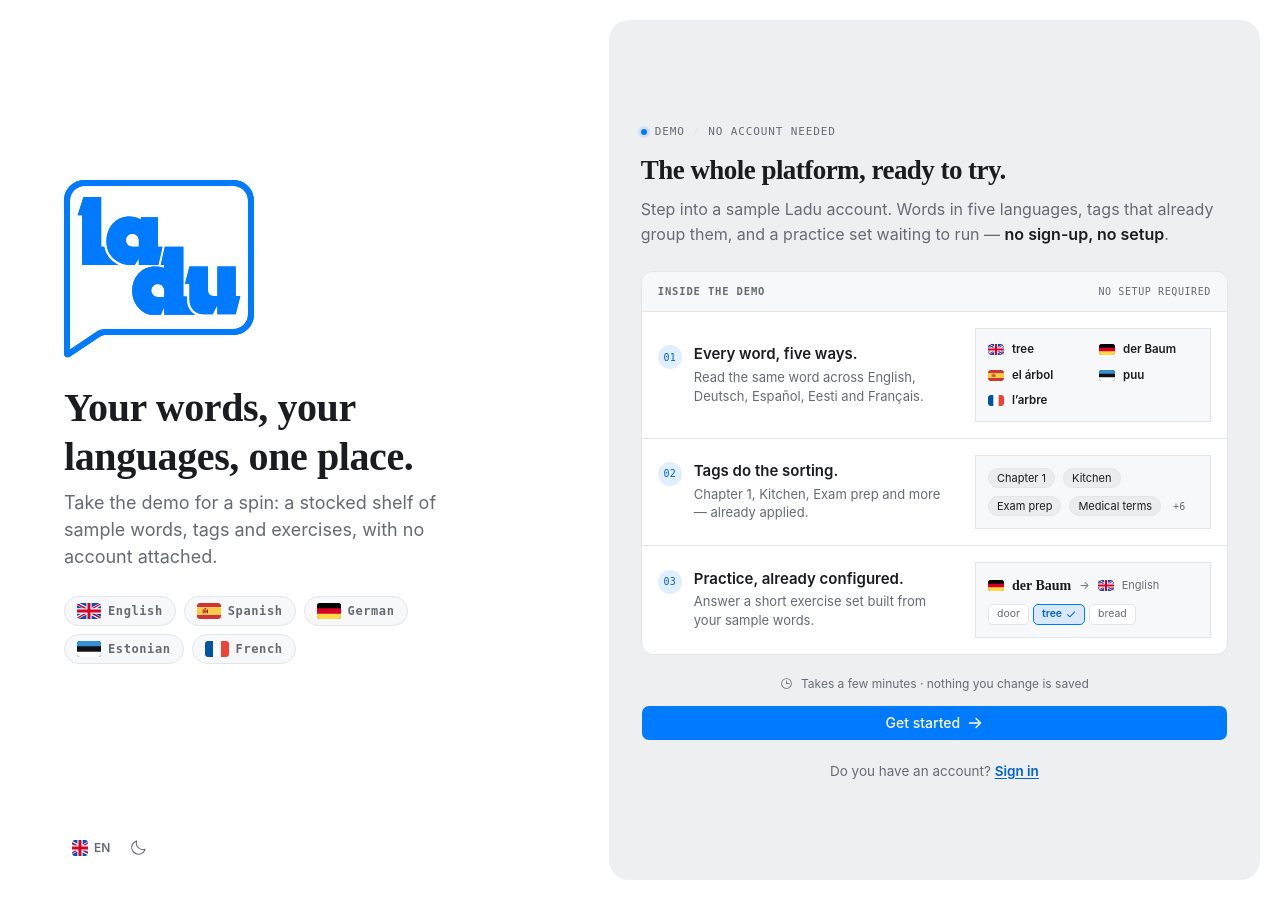
Test: /demo — the start screen › step 1 describes the demo; "Get started" opens step 2 with the languages, Start and the Terms note
The width and height of the screenshot is (1280, 900).
Expected: the heading "The whole platform, ready to try." is shown, [641, 155, 1006, 185]
Click the button "Get started" at (934, 723), box [641, 705, 1228, 741]
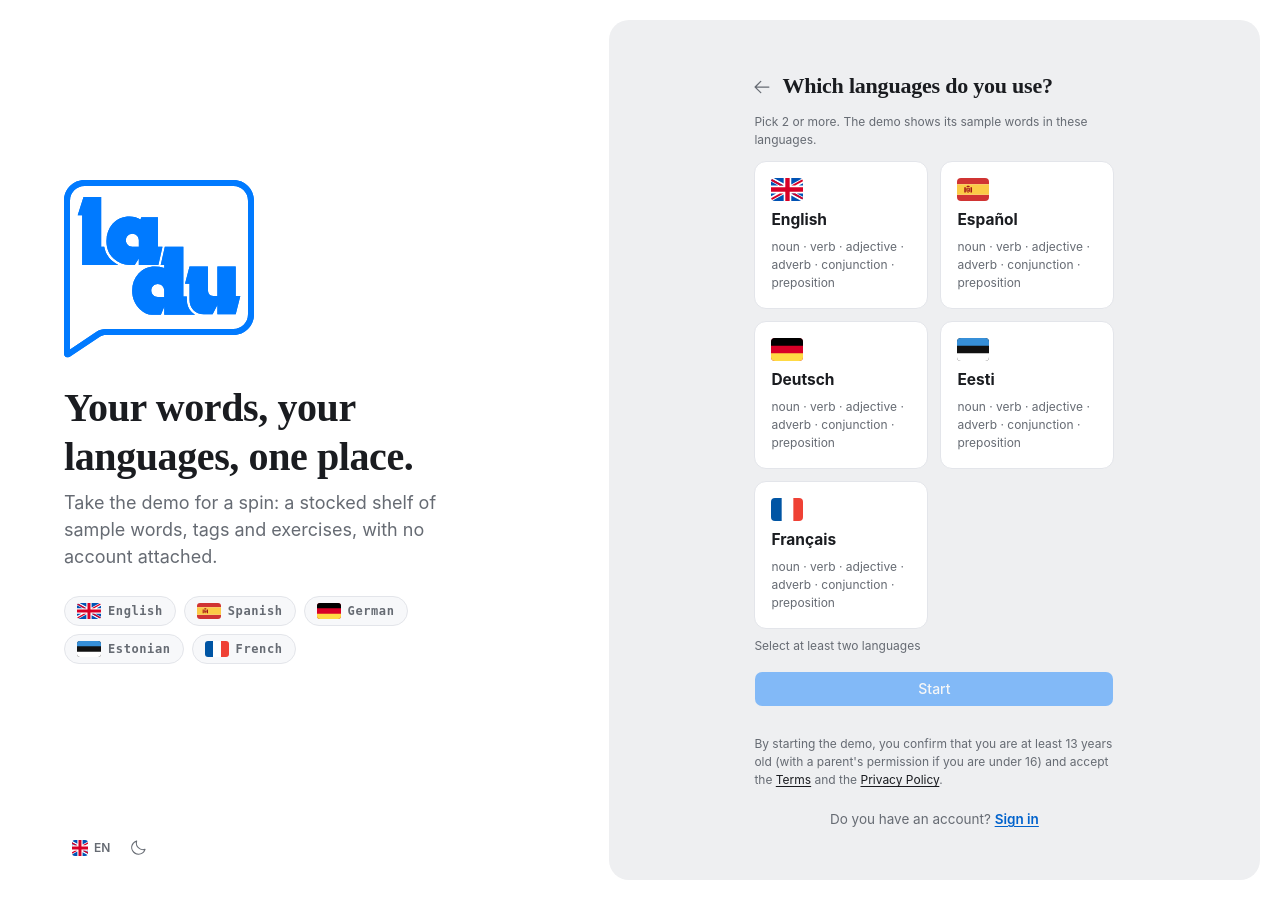
Expected: the heading "Which languages do you use?" is shown, [782, 73, 1053, 100]
Expected: the heading "The whole platform, ready to try." is gone
Expected: the button "English" is shown, [754, 160, 928, 309]
